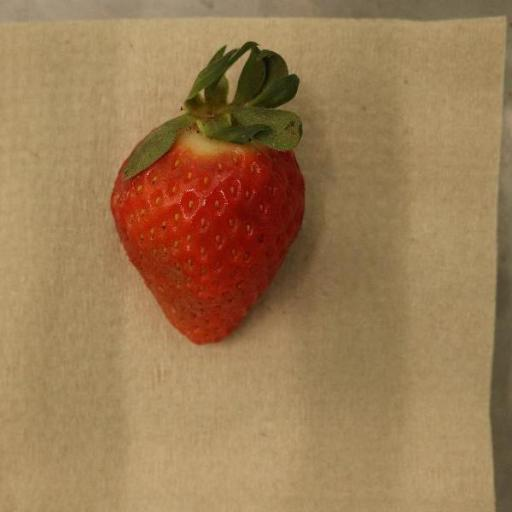Strawberry: (111, 42, 306, 346)
